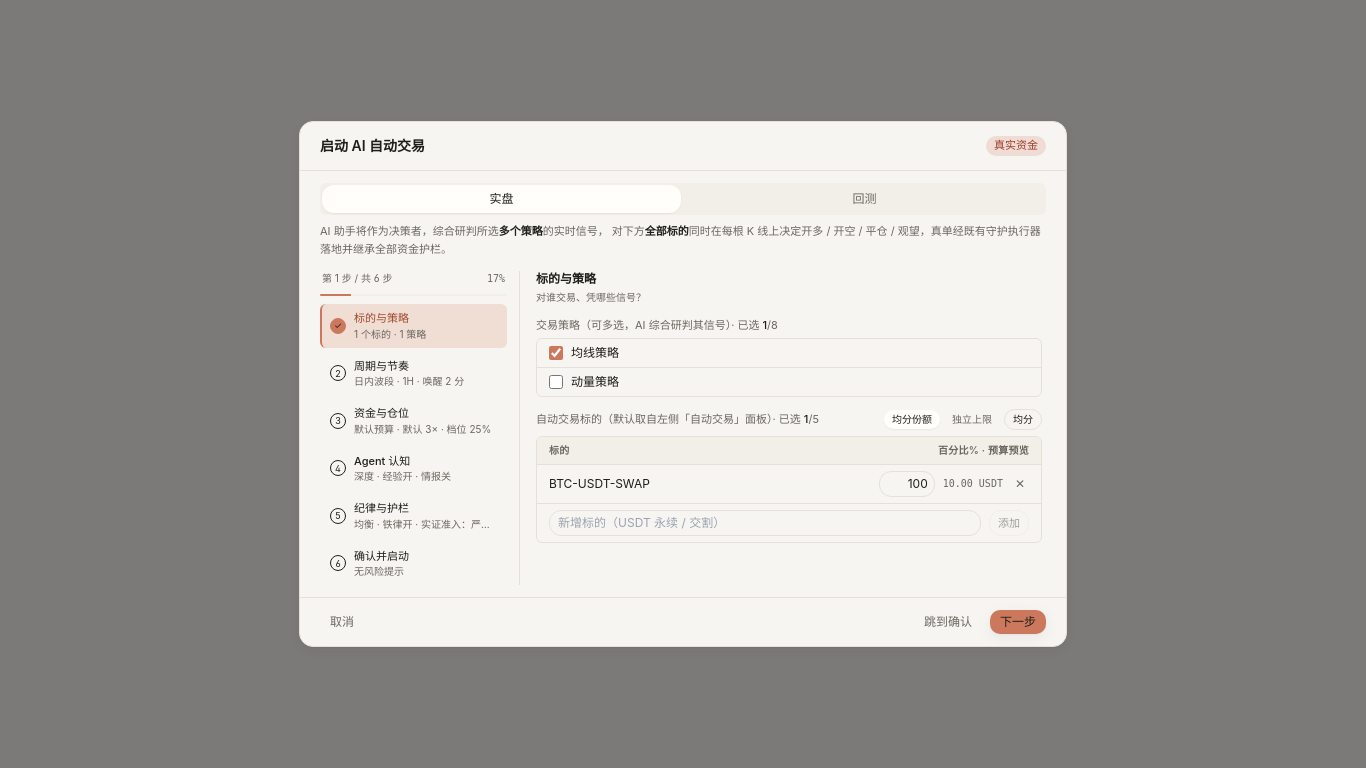
Scenario: AiTradeLaunchModal › 展开后的只读阈值表**只渲染后端下发的值**（前端不复制任何一个数）
The image size is (1366, 768).
Expected: the text "均线策略" is shown, [571,345,619,361]
Click the tab "纪律与护栏".
click(414, 516)  # box [320,494,507,538]
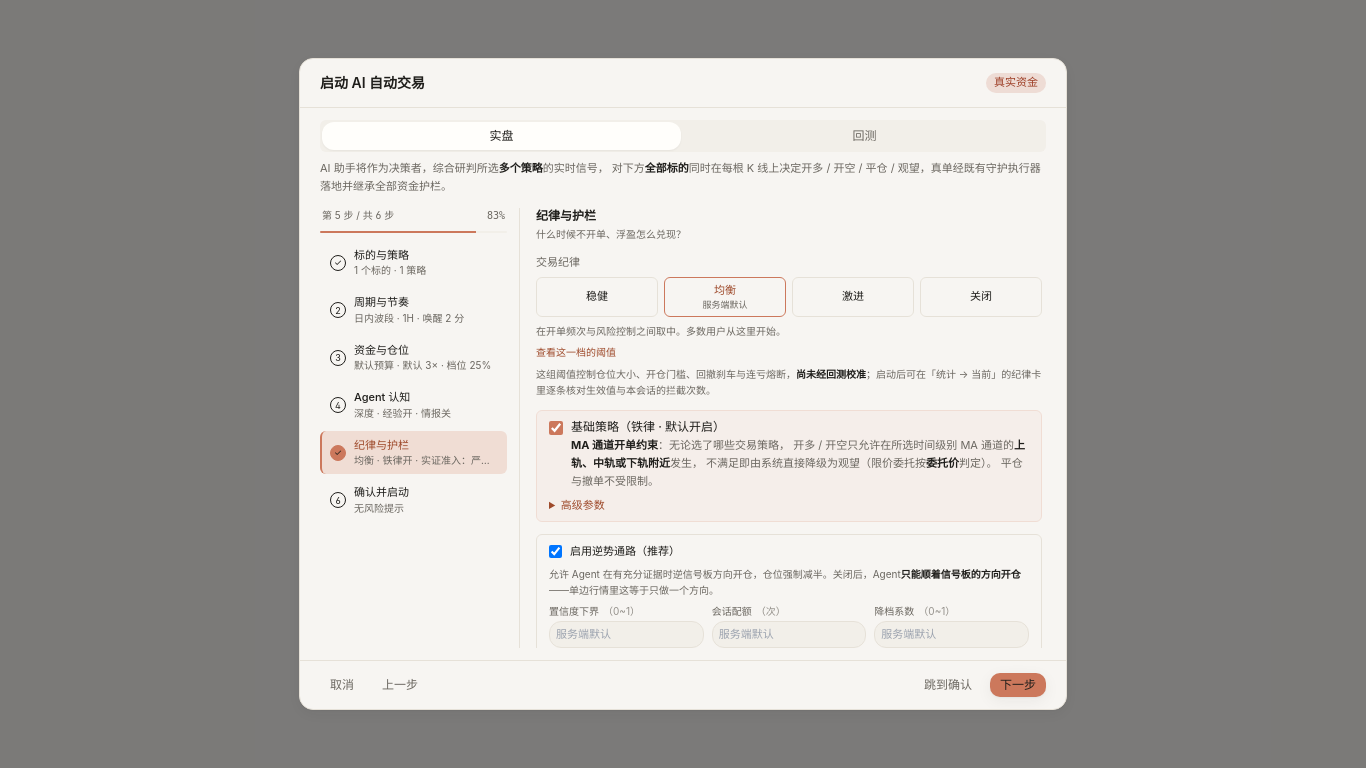
Click the button "查看这一档的阈值".
click(576, 352)  # box [536,345,616,360]
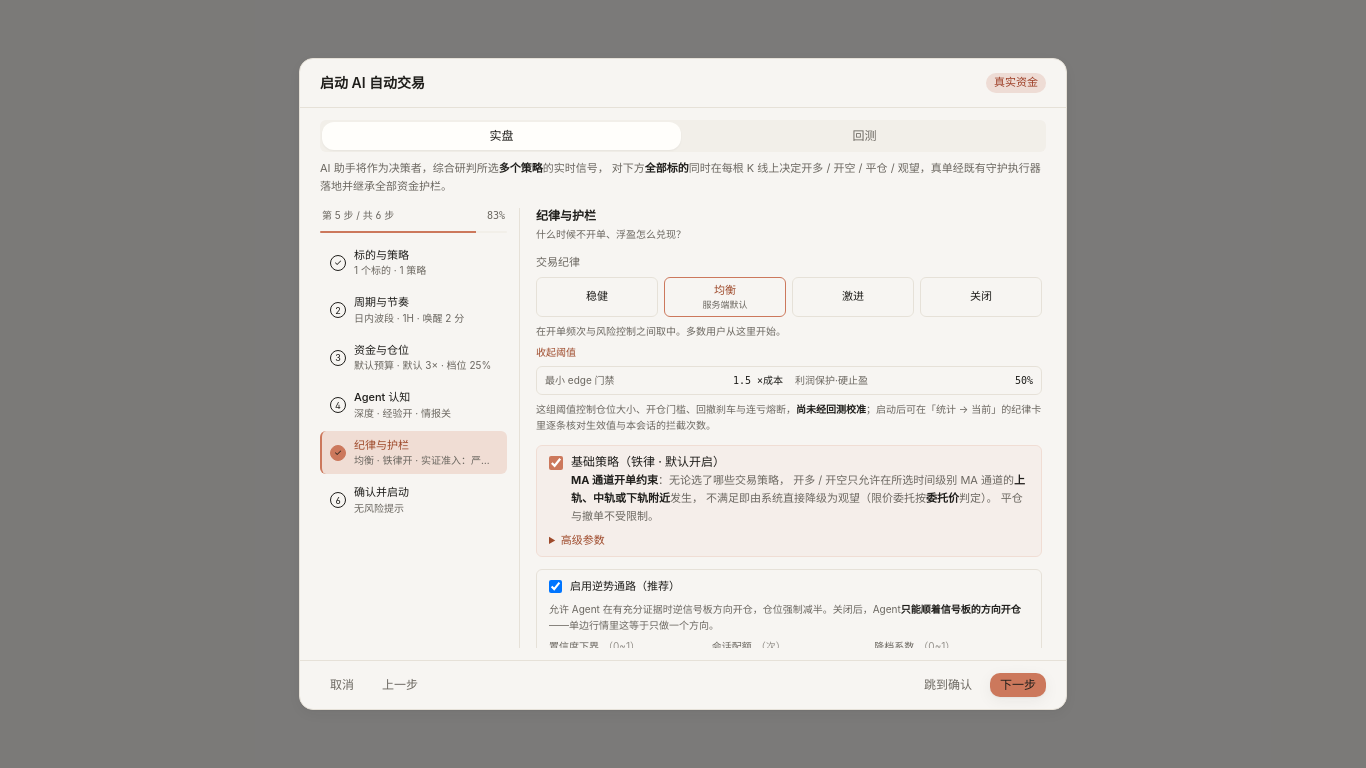
Result: the element with test id "ai-discipline-threshold-table" shows "最小 edge 门禁" at [545,374,614,386]
Result: the element with test id "ai-discipline-threshold-table" shows "1.5 ×成本" at [733,375,783,386]
Click the button "稳健".
click(597, 297)  # box [536,277,658,317]
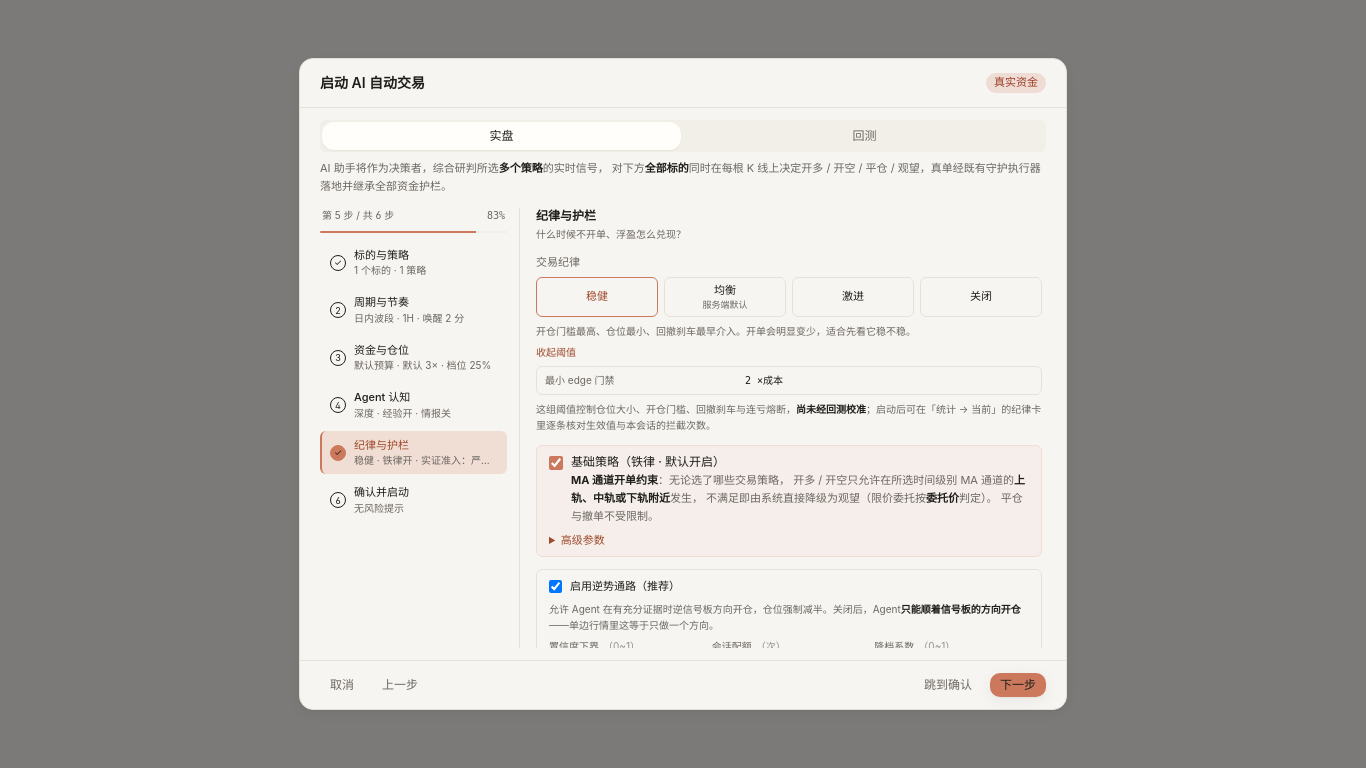
Result: the element with test id "ai-discipline-threshold-table" shows "2 ×成本" at [745,375,783,386]
